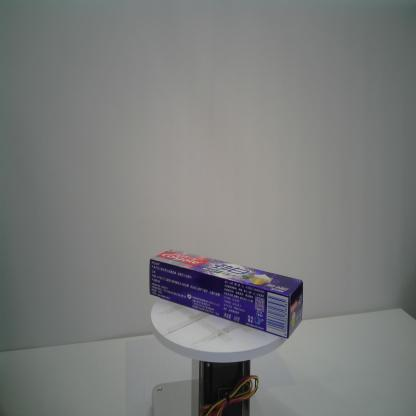Personal Hygiene: (148, 249, 304, 340)
